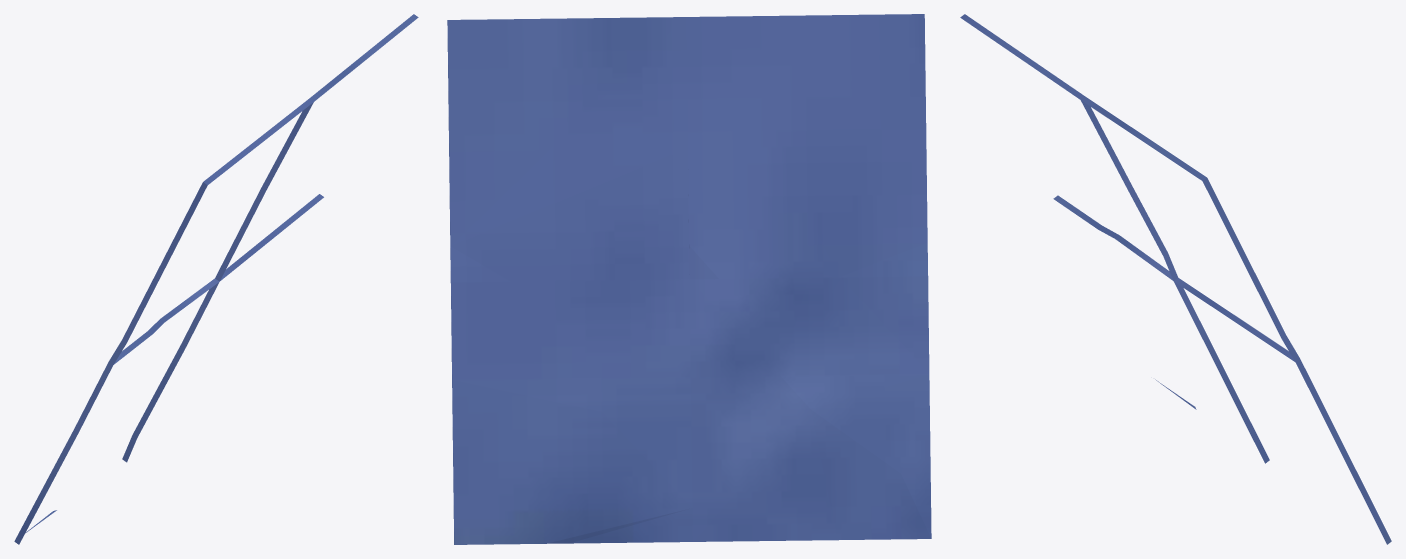
The picture shows the model from 3 angles, left to right: view 1: azimuth 30°, elevation 25°; view 2: azimuth 150°, elevation 25°; view 3: azimuth 270°, elevation 25°; orthographic projection. The views are drawn at different scales.
Size of the model in its own units: 4905 by 4434 by 4179.
Materials: 1 (1 with a texture image).
